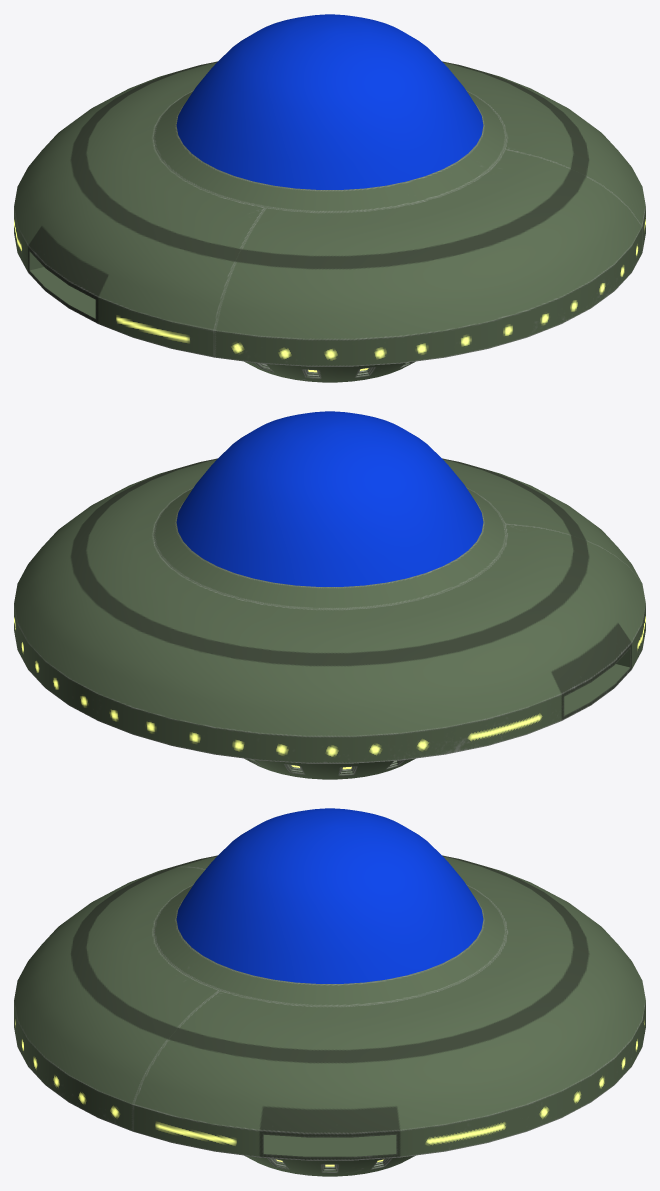
3 views of the same model, one above another, from view 1: azimuth 30°, elevation 25°; view 2: azimuth 150°, elevation 25°; view 3: azimuth 270°, elevation 25° (orthographic).
Visible parts, largest first — view 1: UFO_Color1__1_; view 2: UFO_Color1__1_; view 3: UFO_Color1__1_.
Boxes of the visible parts, x1,y1,x2,y2 form: UFO_Color1__1_: [14, 14, 645, 382]; UFO_Color1__1_: [14, 411, 645, 779]; UFO_Color1__1_: [14, 808, 645, 1176].
Bounding box in the file's own units: 1054 × 575 × 1057.
2 materials, 1 textured.
